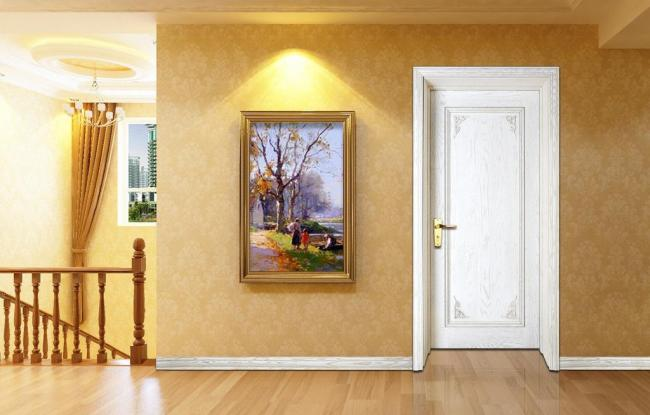door: (430, 90, 539, 349)
